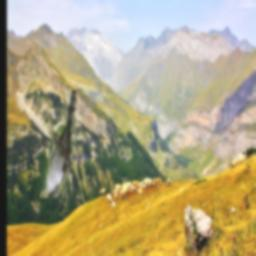Cuckoo: (41, 89, 77, 197)
